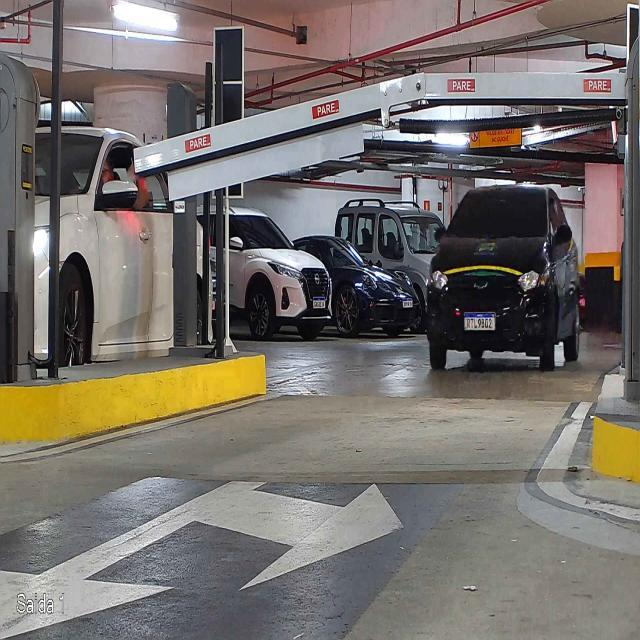mercosul_plate: (462, 311, 497, 332)
